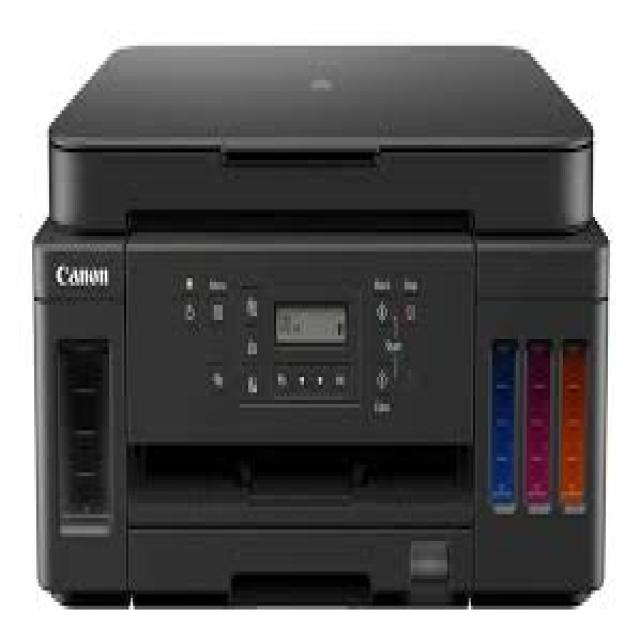printer: (30, 38, 610, 610)
